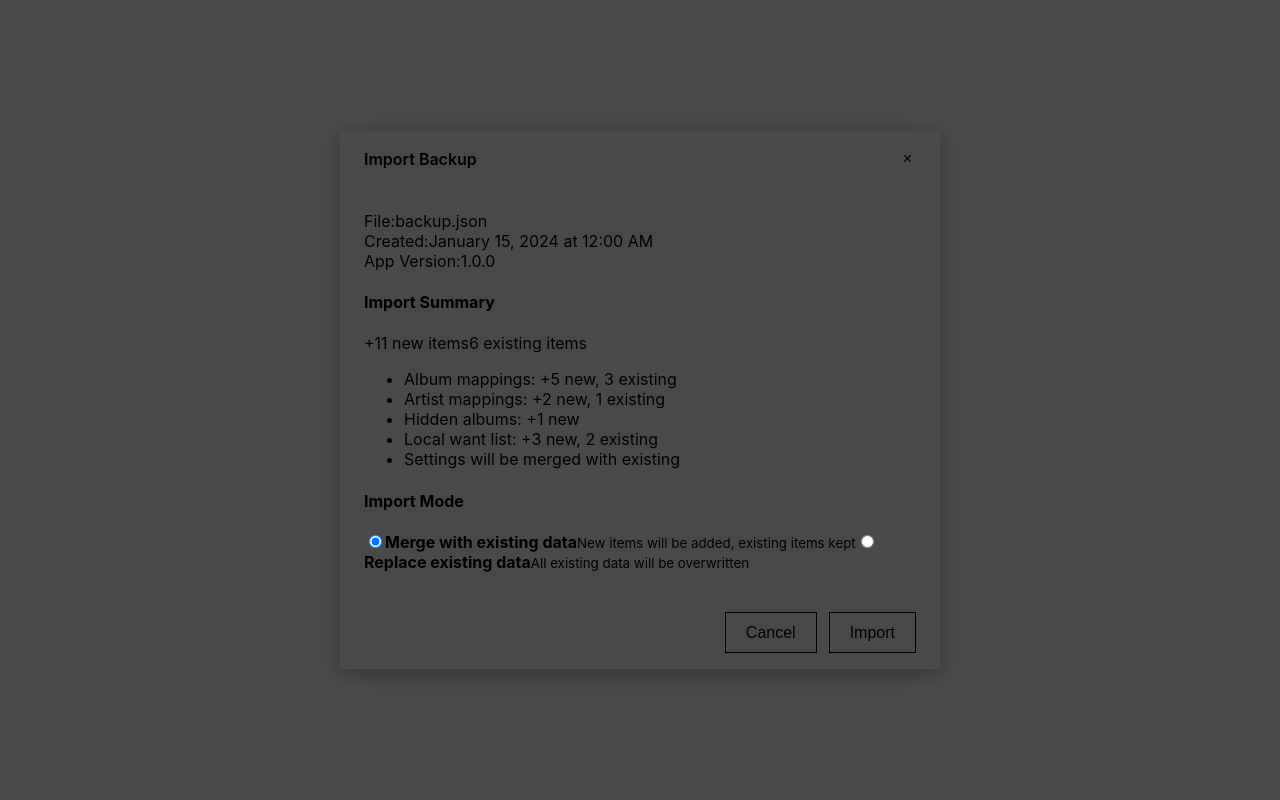
BackupImportDialog › shows error when import returns errors
This screenshot has width=1280, height=800.
Click the button "Import": (872, 632) left=829, top=612, right=916, bottom=653
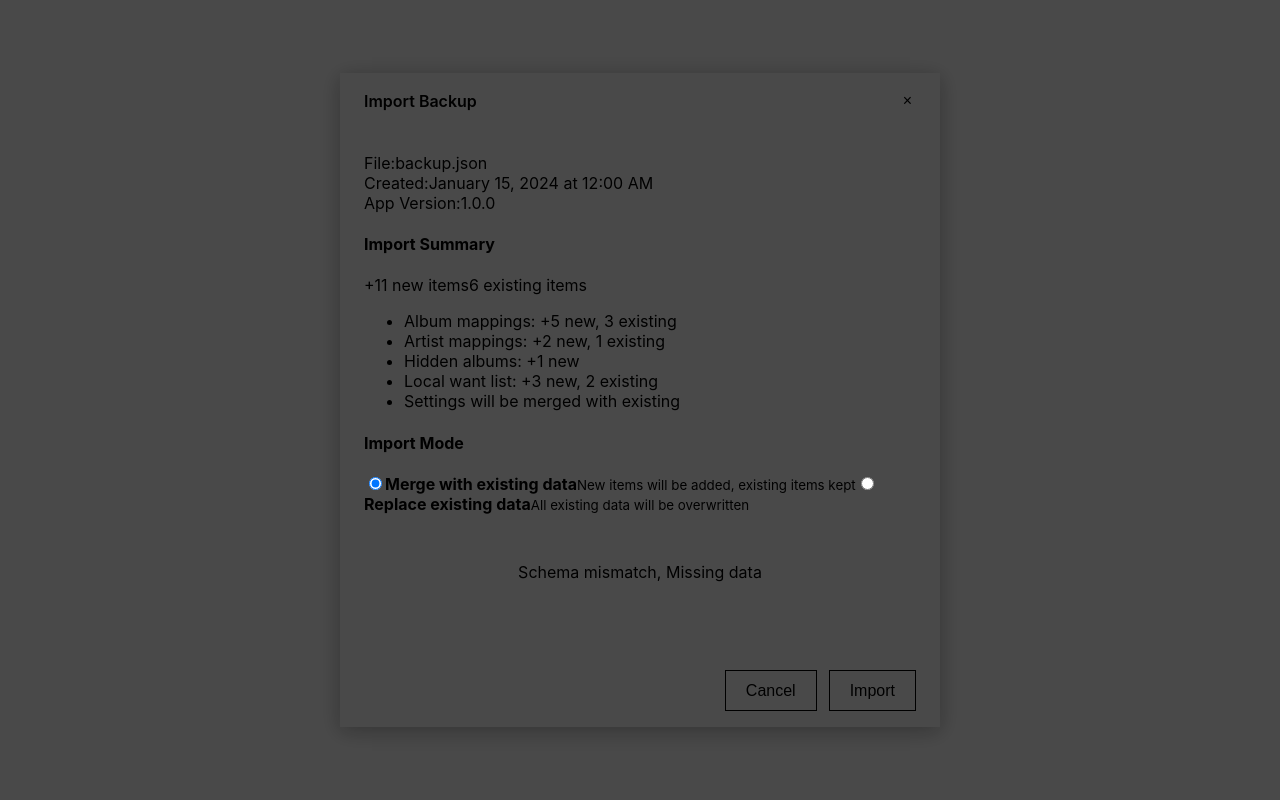
Result: the text "Schema mismatch, Missing data" is shown at left=518, top=562, right=762, bottom=582
